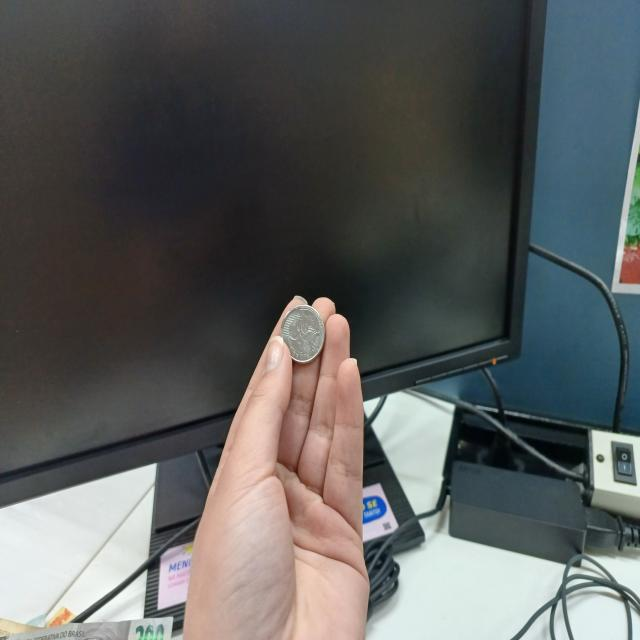50 cents: (280, 301, 328, 364)
